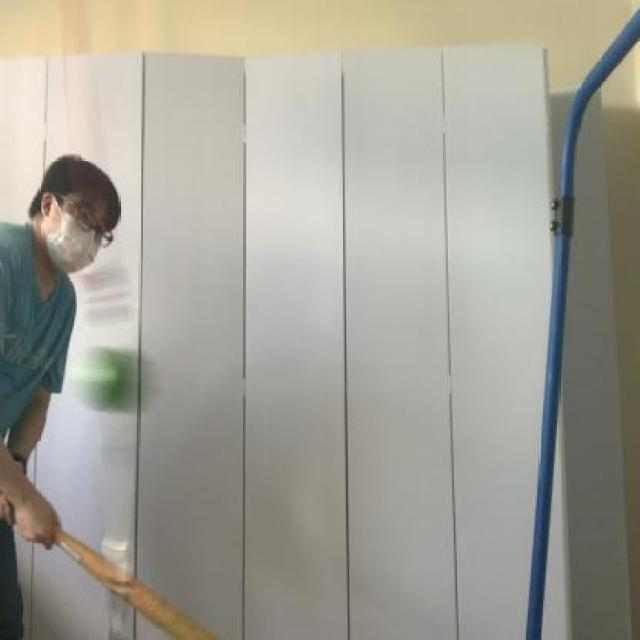baseball: (77, 354, 145, 424)
